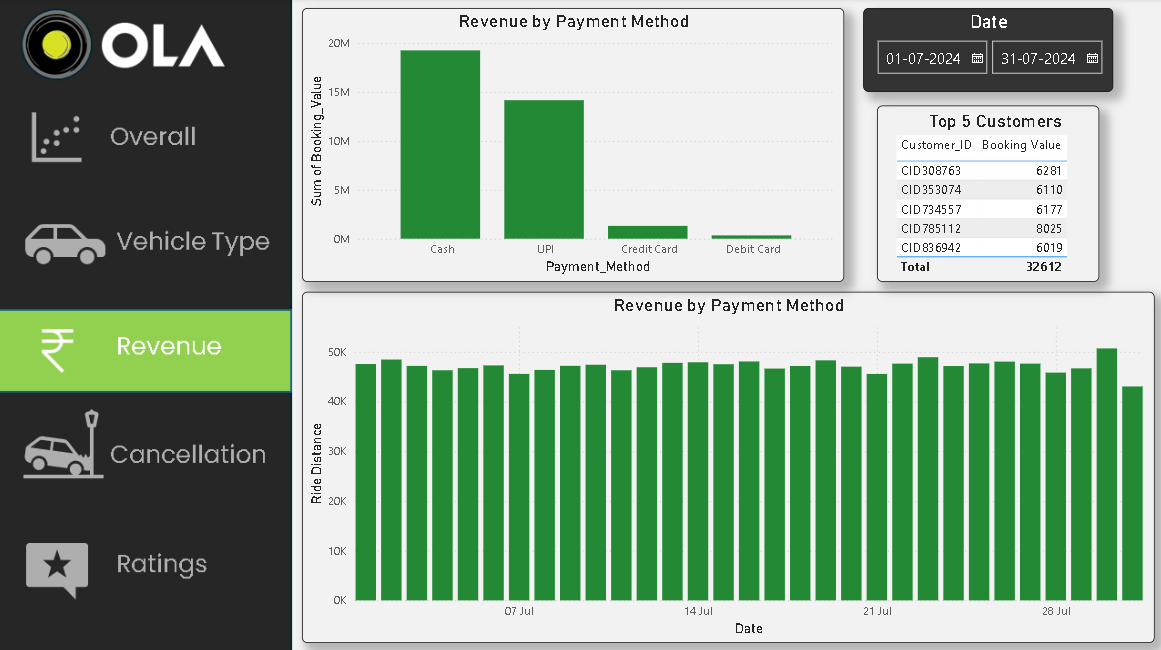

Layout of this report page (visuals, bound fields, positions):
{"tool":"powerbi","page":{"name":"revenue","canvas":[1280,720],"ordinal":2},"visuals":[{"type":"actionButton","box":[0,226.8,320.9,85.7],"z":0},{"type":"actionButton","box":[0,114.6,320.9,85.7],"z":1000},{"type":"actionButton","box":[0,456,320.9,85.7],"z":2000},{"type":"actionButton","box":[0,579.1,320.9,85.7],"z":3000},{"type":"columnChart","title":"Revenue by Payment Method","fields":{"Category":["July.Payment_Method"],"Y":["Sum(July.Booking_Value)"]},"box":[334.8,11,595.5,300.5],"z":4000},{"type":"columnChart","title":"Revenue by Payment Method","fields":{"Category":["July.Date"],"Y":["Sum(July.Ride_Distance)"]},"box":[334.8,322.5,935.9,385.6],"z":5000},{"type":"slicer","title":"Date","fields":{"Values":["July.Date"]},"box":[950.9,11,274.4,104.3],"z":6000},{"type":"tableEx","title":"Top 5 Customers","fields":{"Values":["July.Customer_ID","Sum(July.Booking_Value)"]},"box":[966,118,230.5,193.5],"z":6001}]}

Visuals, with their boxes in screenshot pixels (x1, y1, x2, y2), scaled from the page's 1280x720 canvas onto the 1161x650 screenshot:
actionButton: BBox(0, 205, 291, 282)
actionButton: BBox(0, 103, 291, 181)
actionButton: BBox(0, 412, 291, 489)
actionButton: BBox(0, 523, 291, 600)
"Revenue by Payment Method" columnChart: BBox(304, 10, 844, 281)
"Revenue by Payment Method" columnChart: BBox(304, 291, 1153, 639)
"Date" slicer: BBox(862, 10, 1111, 104)
"Top 5 Customers" tableEx: BBox(876, 107, 1085, 281)
